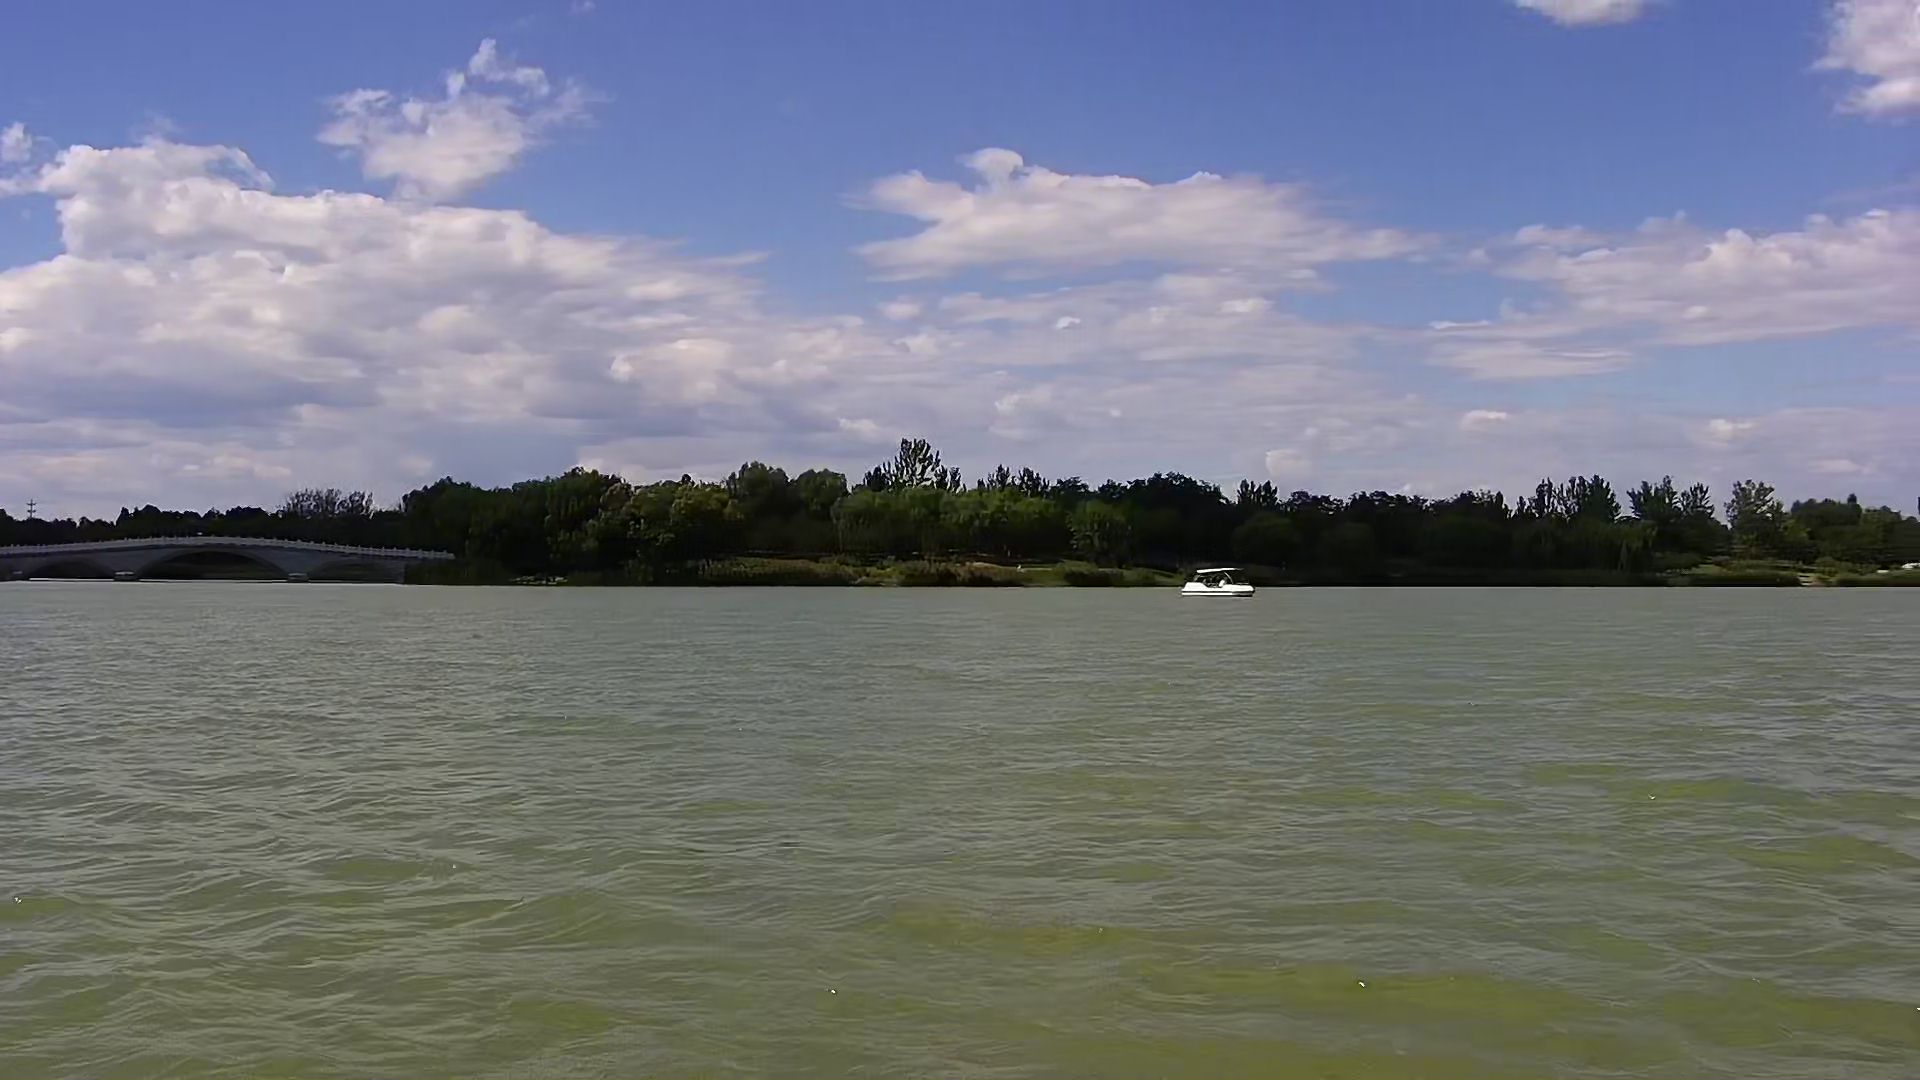boat: (1175, 560, 1265, 604)
bridge: (1, 535, 450, 587)
